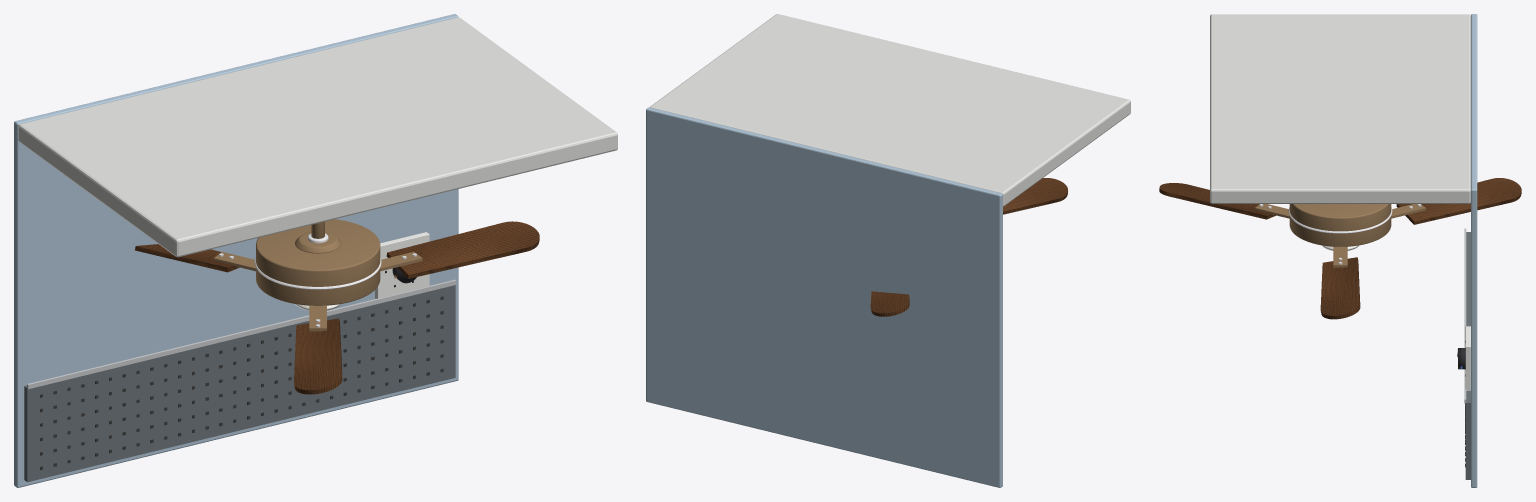
File: KipasSiling.glb
3 renders of one model, left to right at view 1: azimuth 30°, elevation 25°; view 2: azimuth 150°, elevation 25°; view 3: azimuth 270°, elevation 25°, orthographic. The views are drawn at different scales.
Visible parts, largest first — view 1: Siling, Dinding, PapanAlat, Motor, Bilah1, Bilah3, Pengatur, Bilah2; view 2: Dinding, Siling, Bilah3, Bilah2; view 3: Siling, Motor, Dinding, Bilah1, Bilah2, Bilah3, PapanAlat.
Boxes of the visible parts, left/top/right/bottom form: Siling: left=18, top=17, right=617, bottom=257; Dinding: left=14, top=14, right=458, bottom=487; PapanAlat: left=24, top=279, right=456, bottom=482; Motor: left=254, top=219, right=381, bottom=305; Bilah1: left=380, top=221, right=539, bottom=278; Bilah3: left=294, top=305, right=342, bottom=394; Pengatur: left=375, top=232, right=429, bottom=298; Bilah2: left=135, top=244, right=255, bottom=272; Dinding: left=646, top=107, right=1002, bottom=487; Siling: left=650, top=14, right=1130, bottom=206; Bilah3: left=1003, top=178, right=1067, bottom=214; Bilah2: left=870, top=291, right=909, bottom=316; Siling: left=1210, top=14, right=1470, bottom=203; Motor: left=1288, top=204, right=1392, bottom=246; Dinding: left=1471, top=14, right=1477, bottom=487; Bilah1: left=1320, top=246, right=1360, bottom=319; Bilah2: left=1391, top=178, right=1521, bottom=224; Bilah3: left=1159, top=183, right=1289, bottom=219; PapanAlat: left=1464, top=228, right=1470, bottom=479.
Size of the model in its own units: 0.64 by 0.505 by 0.5557.
15 materials, 1 textured.
